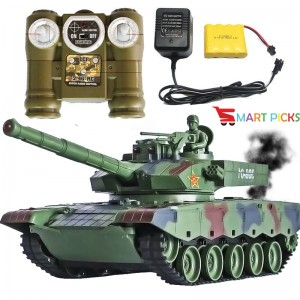Battle Tank: (1, 140, 300, 283)
